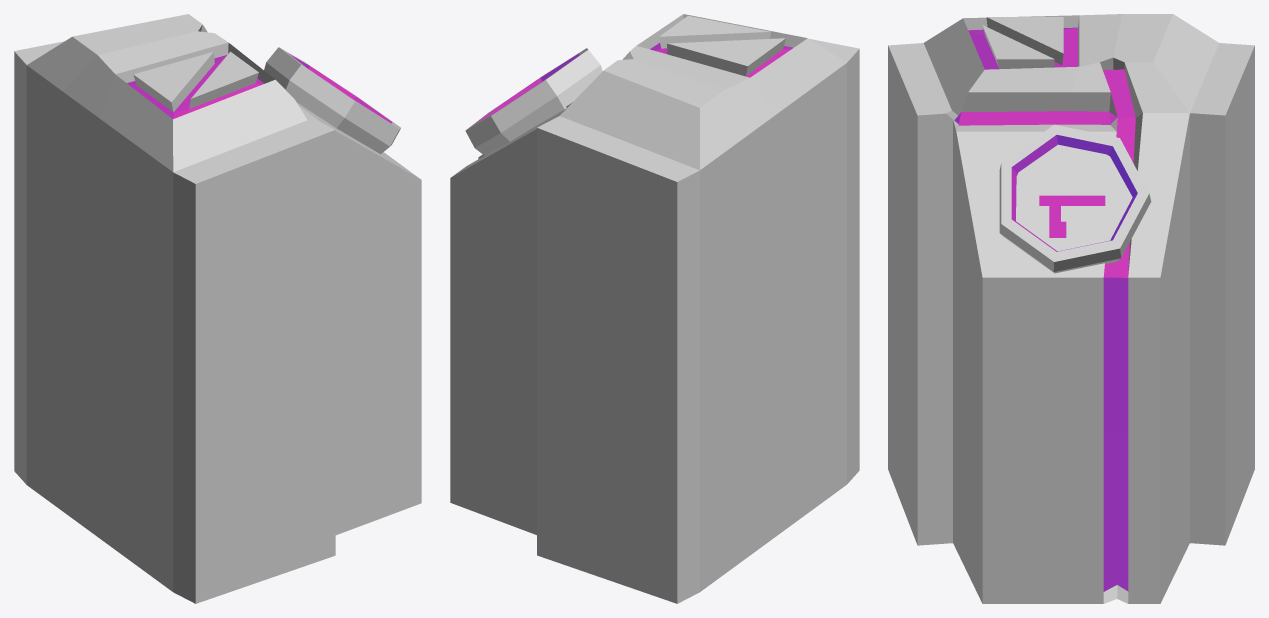
Rendered from power_thing.glb.
3 renders of one model, left to right at view 1: azimuth 30°, elevation 25°; view 2: azimuth 150°, elevation 25°; view 3: azimuth 270°, elevation 25°, orthographic.
Visible parts, largest first — view 1: power_thing-col; view 2: power_thing-col; view 3: power_thing-col.
Boxes of the visible parts, x1,y1,x2,y2 form: power_thing-col: (14,14,421,603); power_thing-col: (450,14,859,603); power_thing-col: (888,14,1254,603).
Bounding box in the file's own units: 0.9481 × 1.44 × 1.02.
